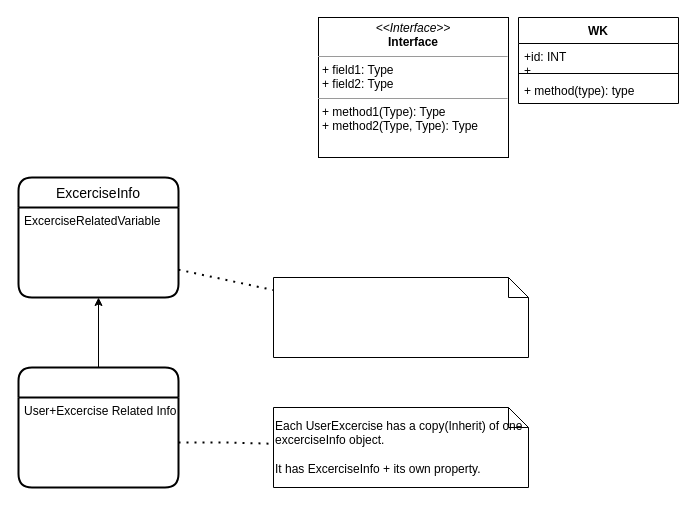
The diagram is 696 pixels wide and 506 high, and some of its shapes have lost their labels. Each missing label, with the box of its shape:
Server will have a NOT-MUTALBE list of excercise list: (272, 276, 528, 358)
UserExcerciseInfo: (17, 366, 179, 488)
